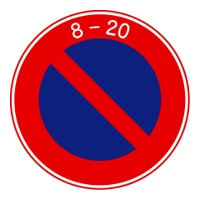Prohibition_sign: (10, 3, 195, 193)
